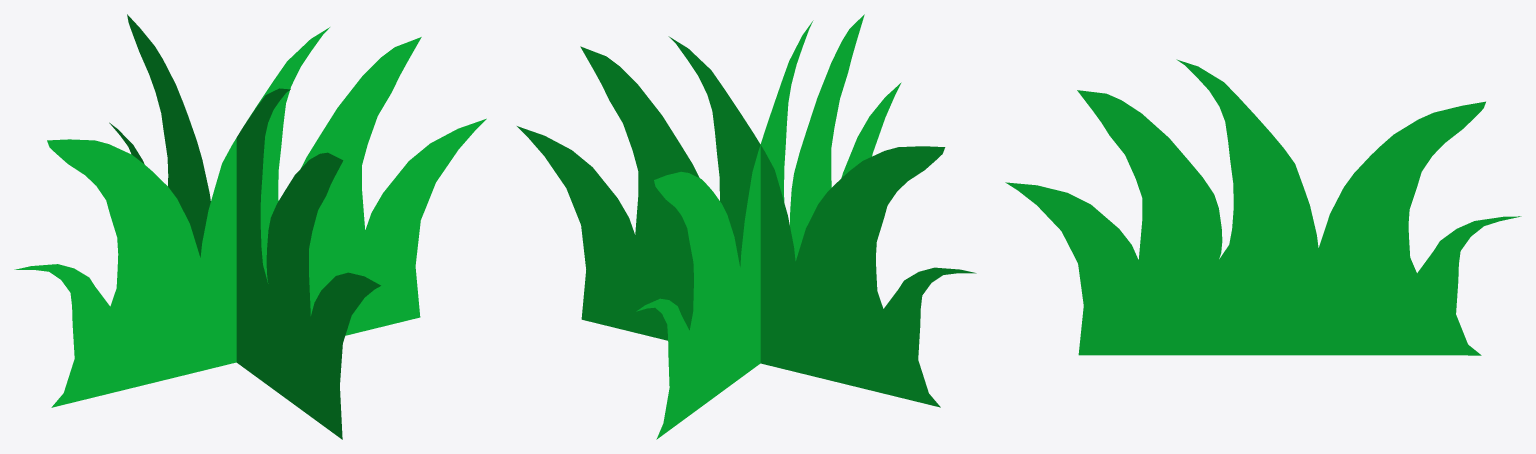
File: simple_grass_billboard.glb
3 views of the same model, side by side, from view 1: azimuth 30°, elevation 25°; view 2: azimuth 150°, elevation 25°; view 3: azimuth 270°, elevation 25° (orthographic). The views are drawn at different scales.
Parts seen in each view (by area): view 1: Grass; view 2: Grass; view 3: Grass.
Part boxes in pixels (x1,y1,x2,y2): Grass: [14, 14, 486, 439]; Grass: [517, 14, 976, 439]; Grass: [1005, 59, 1521, 355].
Size of the model in its own units: 1.94 by 1.23 by 1.94.
